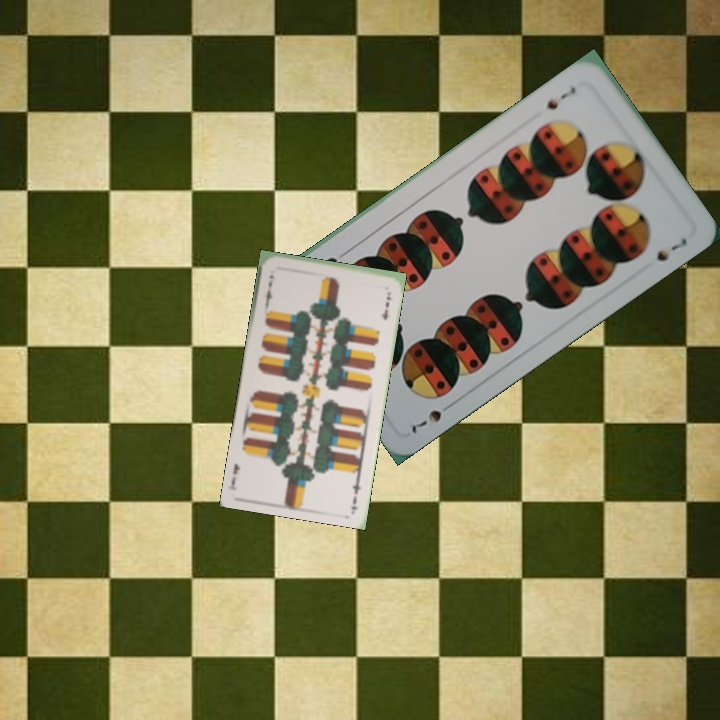E7: (261, 271, 276, 307), (348, 471, 363, 507)
S7: (405, 398, 457, 436), (542, 82, 579, 113)
